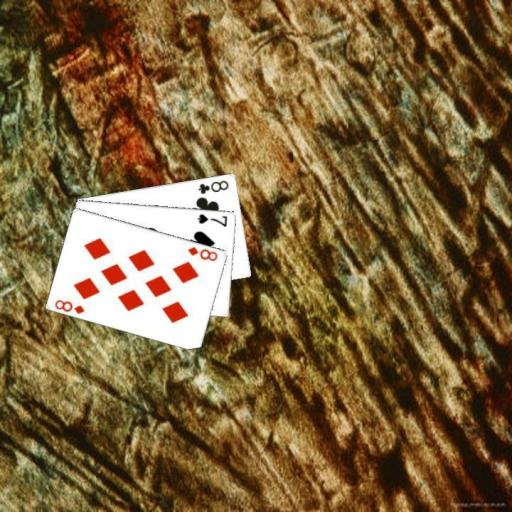card-corner: (196, 177, 230, 196), (195, 210, 229, 228), (185, 244, 219, 262), (52, 297, 86, 315)
